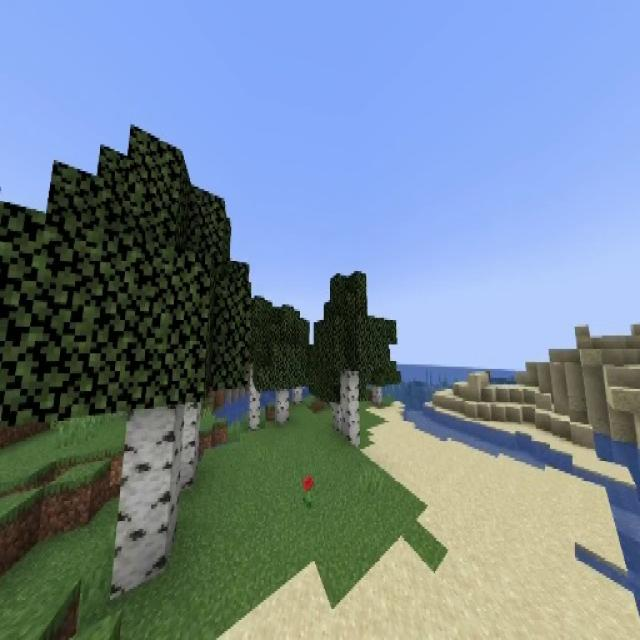birch: (0, 125, 253, 599), (312, 268, 398, 446), (257, 304, 311, 426), (362, 348, 400, 411)
birch_log: (110, 404, 179, 596), (341, 368, 359, 446), (181, 402, 199, 480), (248, 367, 262, 428), (274, 388, 288, 422), (374, 384, 382, 406)
